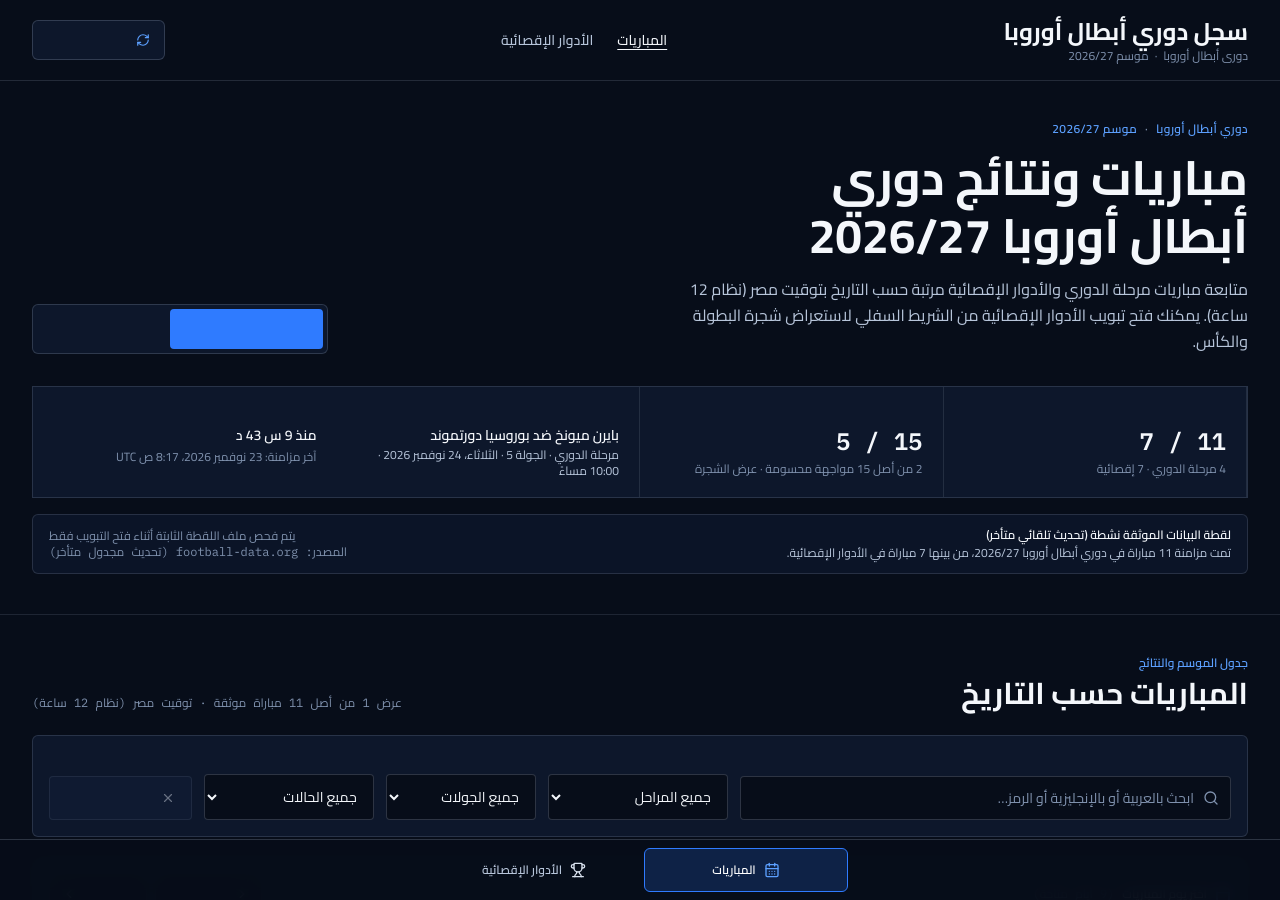
Test case: Champions League Matches & Knockout App UI (Arabic / RTL) › switches kickoff timezone between Egypt time (Africa/Cairo) and Viewer Local
Click the button "التوقيت المحلي (UTC)": (104, 329) [37,309,170,349]
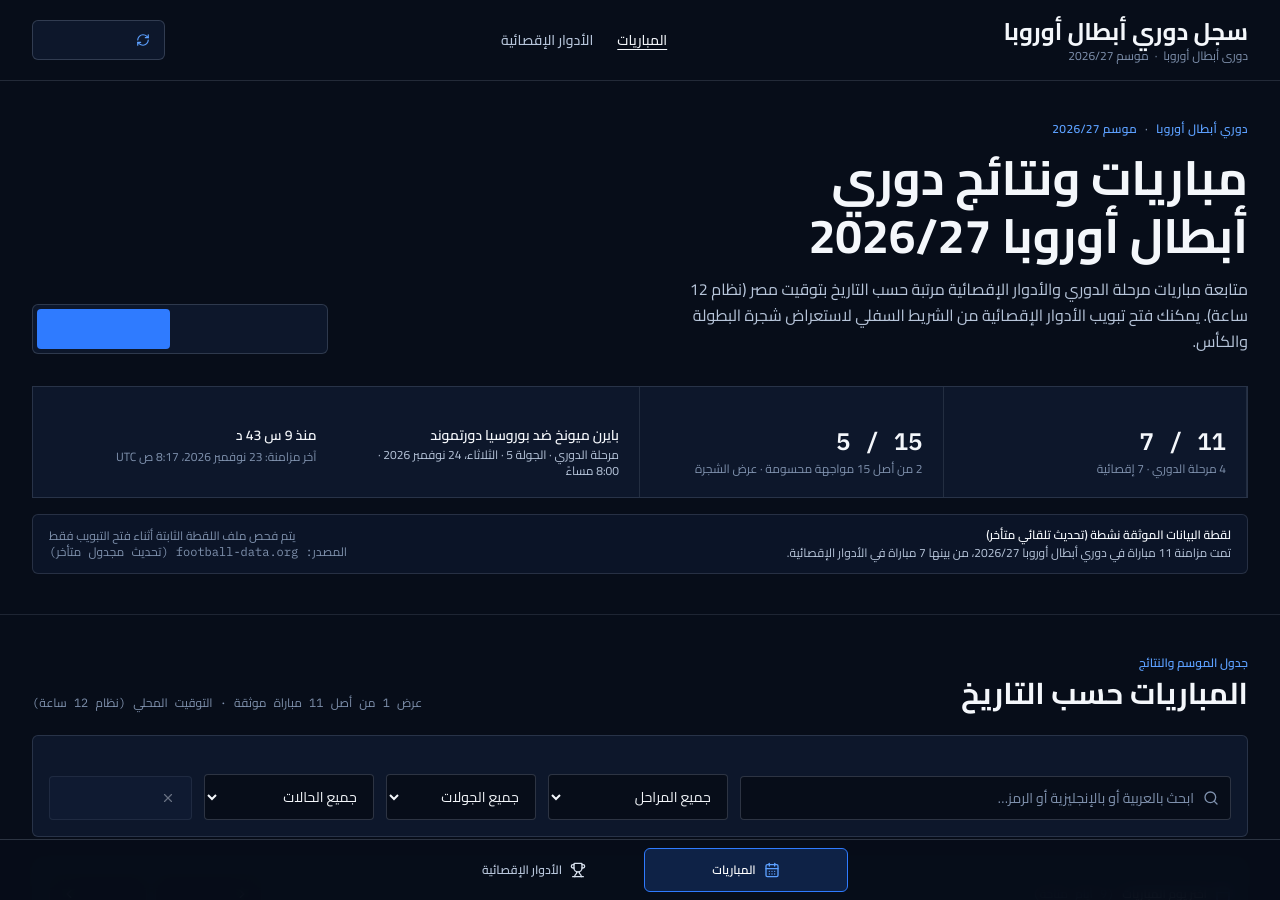
Check: the button "التوقيت المحلي (UTC)" is pressed, box [37,309,170,349]
Check: the button "توقيت مصر (Africa/Cairo)" is not pressed, box [170,309,323,349]
